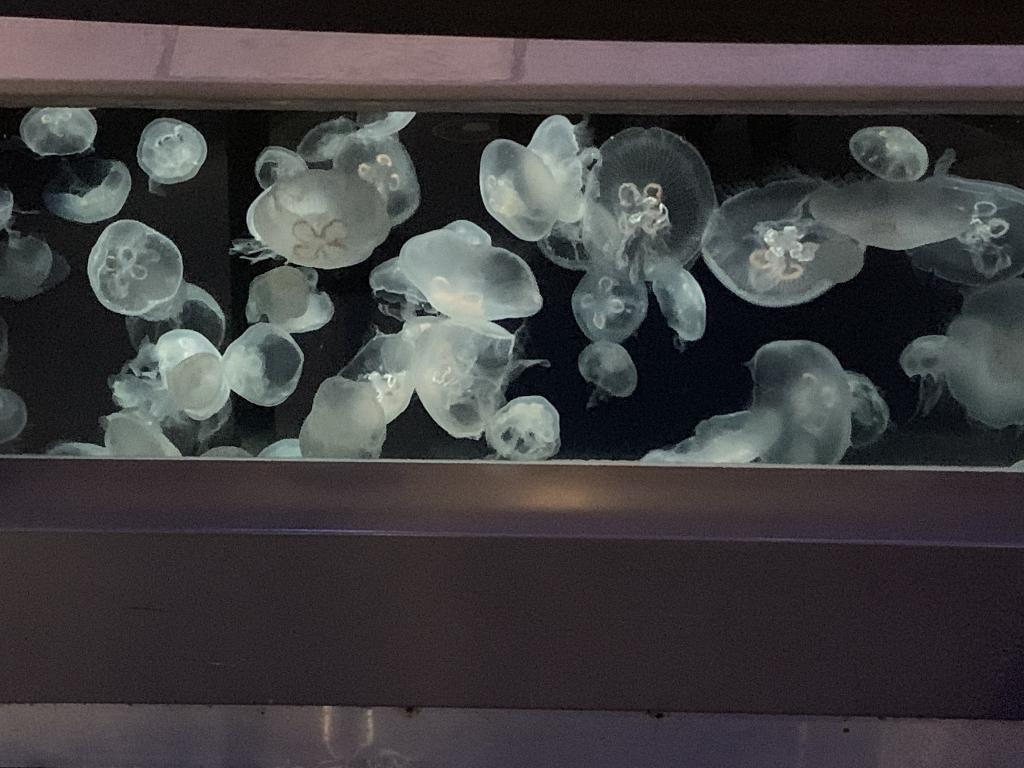jellyfish: (700, 177, 874, 315), (578, 114, 710, 270), (382, 215, 548, 329), (402, 308, 526, 444), (242, 167, 394, 277), (746, 330, 862, 464), (462, 116, 574, 254), (816, 166, 964, 266), (911, 158, 1023, 288), (940, 274, 1022, 436), (316, 117, 426, 225), (641, 395, 777, 477), (82, 212, 186, 318), (116, 278, 232, 366), (290, 374, 392, 463), (220, 315, 312, 413), (518, 110, 592, 228), (148, 324, 234, 420), (40, 155, 140, 229), (568, 260, 654, 346), (810, 363, 894, 449), (846, 116, 938, 190), (481, 388, 573, 462), (650, 254, 724, 344), (134, 113, 216, 191), (250, 248, 334, 324), (16, 103, 108, 169), (574, 334, 646, 404), (96, 400, 178, 460), (894, 326, 968, 386), (250, 140, 328, 196), (0, 232, 58, 306), (0, 387, 27, 445)
